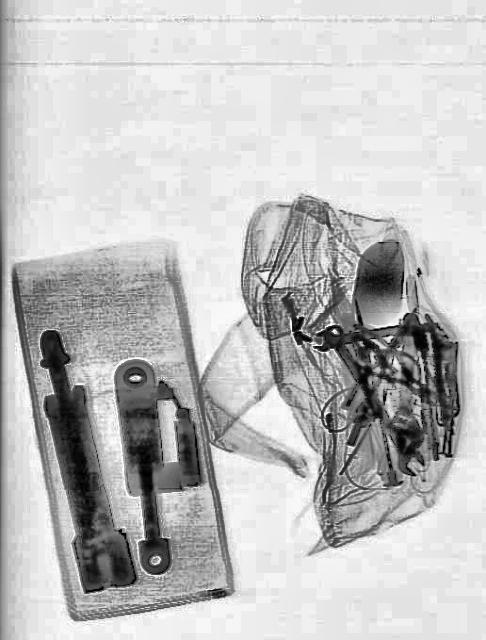Wrench: (318, 318, 428, 482), (313, 314, 423, 352)
